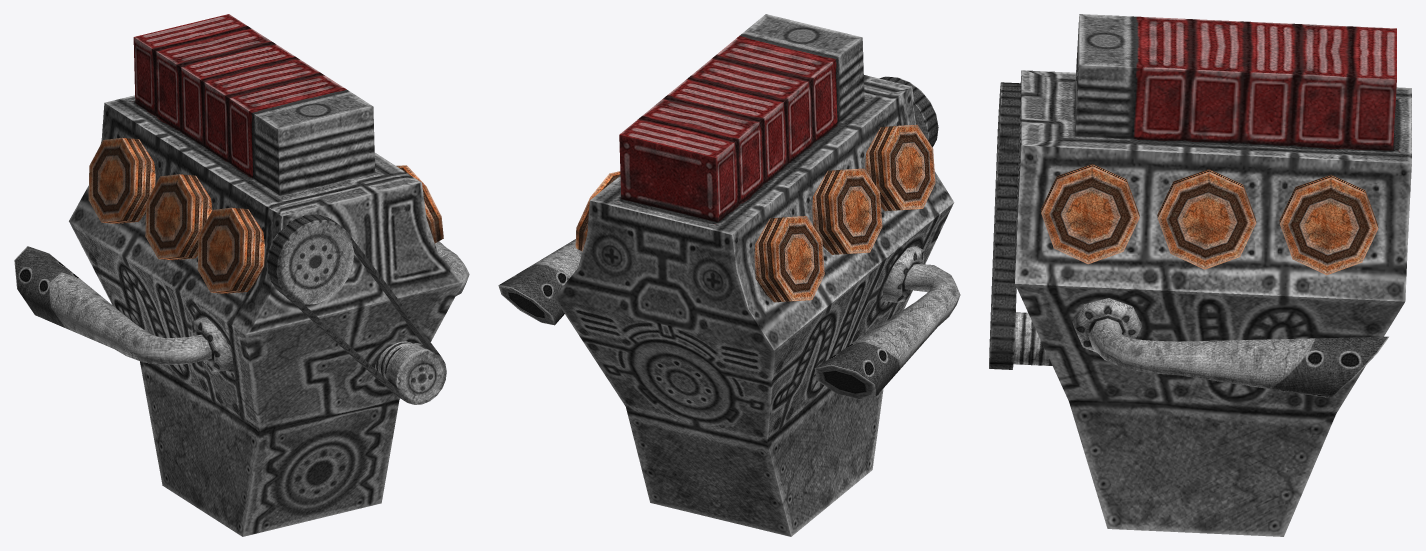
File: HEAD_CAR_ENGINE.fbx
3 views of the same model, side by side, from view 1: azimuth 30°, elevation 25°; view 2: azimuth 150°, elevation 25°; view 3: azimuth 270°, elevation 25° (orthographic). The views are drawn at different scales.
Visible parts, largest first — view 1: HEAD_CAR_ENGINE; view 2: HEAD_CAR_ENGINE; view 3: HEAD_CAR_ENGINE.
Part boxes in pixels (x1=…): HEAD_CAR_ENGINE: x1=14, y1=14, x2=469, y2=536; HEAD_CAR_ENGINE: x1=498, y1=14, x2=960, y2=536; HEAD_CAR_ENGINE: x1=989, y1=14, x2=1411, y2=536.
Bounding box in the file's own units: 0.0189 × 0.0206 × 0.0171.
